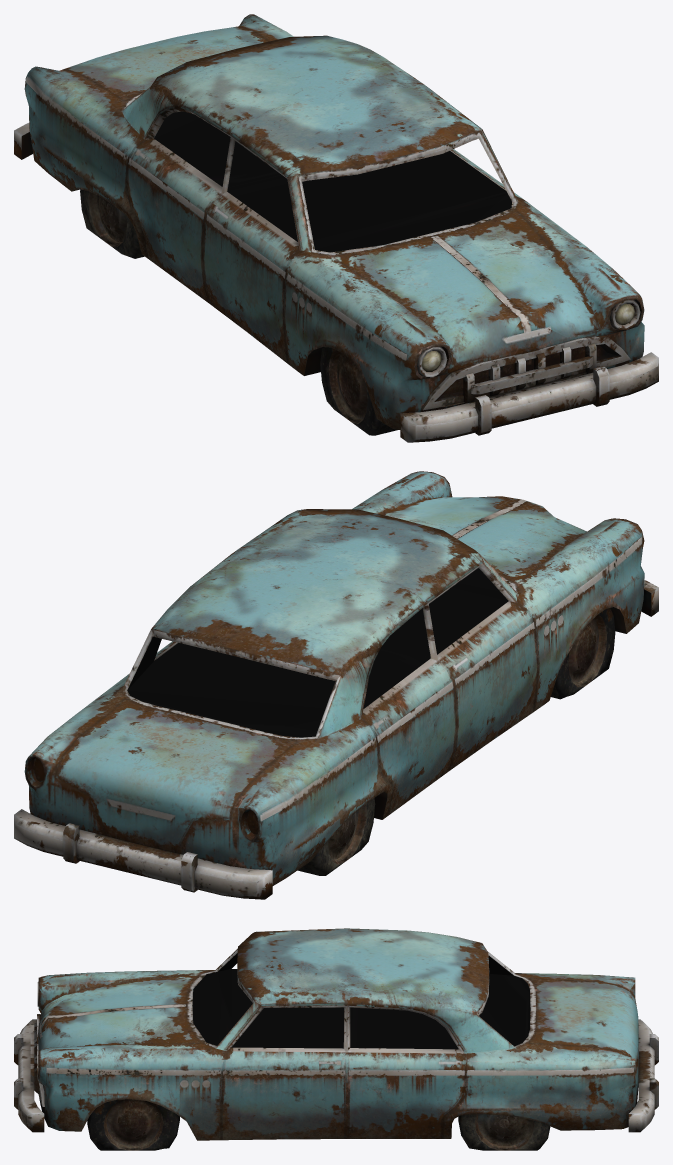
The model's file is car0.obj.
3 renders of one model, top to bottom at view 1: azimuth 30°, elevation 25°; view 2: azimuth 150°, elevation 25°; view 3: azimuth 270°, elevation 25°, orthographic. The views are drawn at different scales.
Parts seen in each view (by area): view 1: Object006_Untitled.002; view 2: Object006_Untitled.002; view 3: Object006_Untitled.002.
Part boxes in pixels (<box>): Object006_Untitled.002: <box>14,14,658,442</box>; Object006_Untitled.002: <box>14,471,658,899</box>; Object006_Untitled.002: <box>14,928,658,1150</box>.
Size of the model in its own units: 6.6 by 4.67 by 18.38.
Materials: 1 (1 with a texture image).
